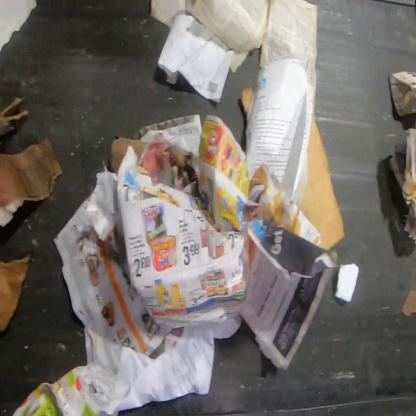cardboard: (298, 110, 346, 252), (0, 137, 63, 208), (0, 255, 31, 336), (110, 135, 147, 173), (240, 85, 256, 116)
